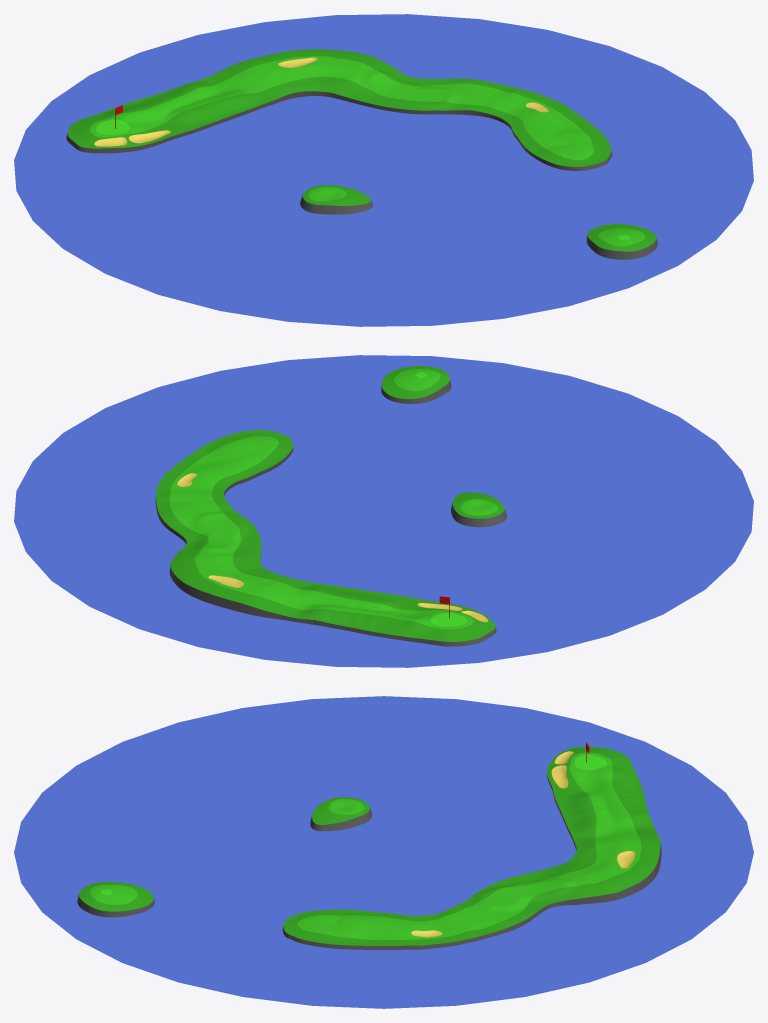
File: coast.glb
The picture shows the model from 3 angles, top to bottom: view 1: azimuth 30°, elevation 25°; view 2: azimuth 150°, elevation 25°; view 3: azimuth 270°, elevation 25°; orthographic projection.
Visible parts, largest first — view 1: Circle, rough1, fairway1, rock1, semi-rough1, heavy-rough, rough2, rock2, rough3, rock3; view 2: Circle, rough1, fairway1, rock1, semi-rough1, heavy-rough, rough3, rough2, rock2; view 3: Circle, rough1, fairway1, rock1, semi-rough1, heavy-rough, rough2, rough3, rock2, rock3.
Boxes of the visible parts, x1,y1,x2,y2 form: Circle: (14,14,753,326); rough1: (67,49,611,166); fairway1: (92,57,591,158); rock1: (66,91,612,170); semi-rough1: (90,56,593,160); heavy-rough: (587,224,656,251); rough2: (302,185,370,205); rock2: (300,195,372,214); rough3: (598,228,645,246); rock3: (586,235,657,259); Circle: (14,355,753,667); rough1: (156,430,495,641); fairway1: (171,436,471,628); rock1: (155,446,496,646); semi-rough1: (169,436,473,629); heavy-rough: (382,366,449,398); rough3: (394,369,440,391); rough2: (452,492,504,518); rock2: (451,503,506,527); Circle: (14,696,753,1008); rough1: (283,747,660,945); fairway1: (299,753,638,939); rock1: (282,774,661,949); semi-rough1: (297,752,641,940); heavy-rough: (79,882,153,911); rough2: (312,797,369,824); rough3: (90,884,137,904); rock2: (310,808,372,831); rock3: (77,894,154,917).
Bounding box in the file's own units: 2.48 × 0.1443 × 2.48.
